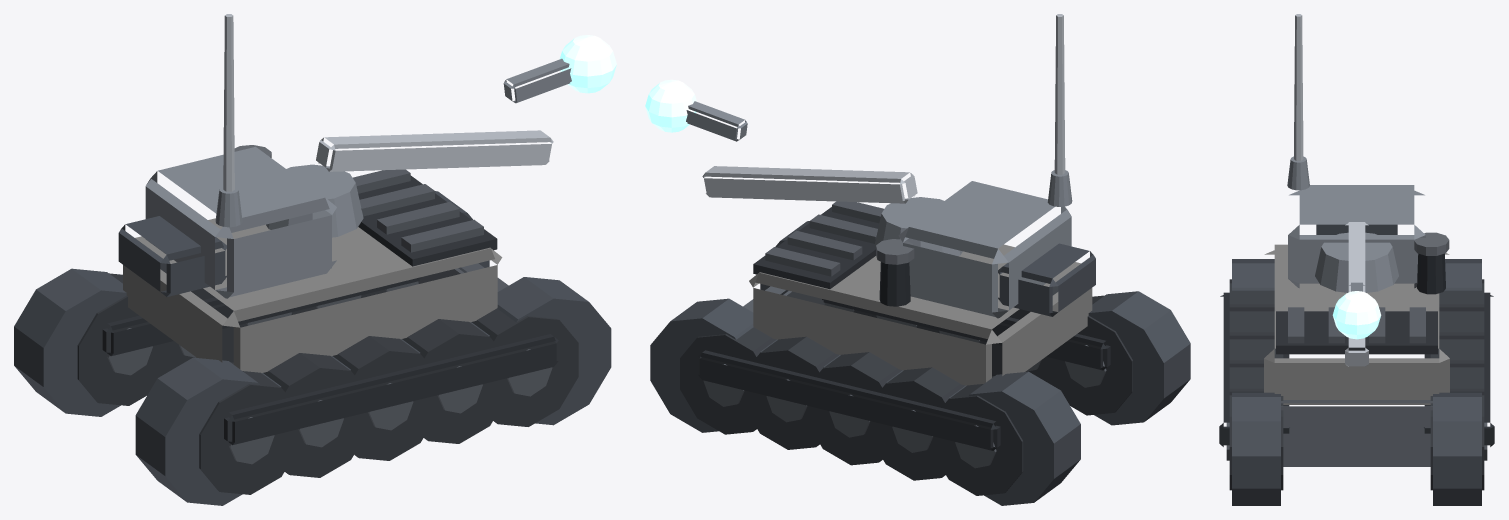
Rendered from con_engineer.glb.
3 views of the same model, side by side, from view 1: azimuth 30°, elevation 25°; view 2: azimuth 150°, elevation 25°; view 3: azimuth 270°, elevation 25° (orthographic). The views are drawn at different scales.
Parts seen in each view (by area): view 1: body, turret; view 2: body, turret; view 3: body, turret.
Boxes of the visible parts, x1,y1,x2,y2 form: body: (14, 14, 611, 505); turret: (266, 35, 616, 237); body: (650, 14, 1190, 505); turret: (645, 79, 962, 256); body: (1219, 14, 1494, 505); turret: (1315, 222, 1398, 366).
Bounding box in the file's own units: 33.92 × 27.84 × 18.7.
